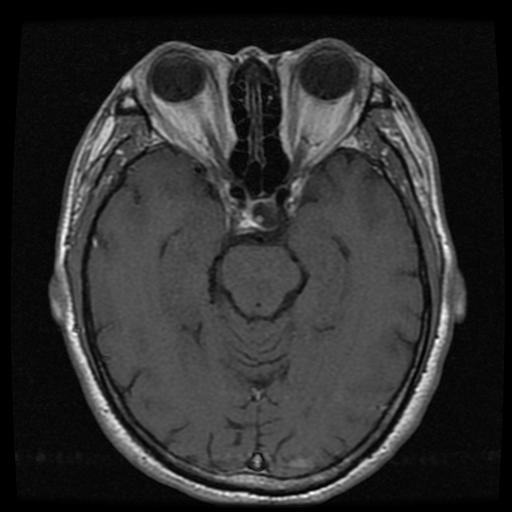Pituirity_tumour: (242, 197, 284, 231)
